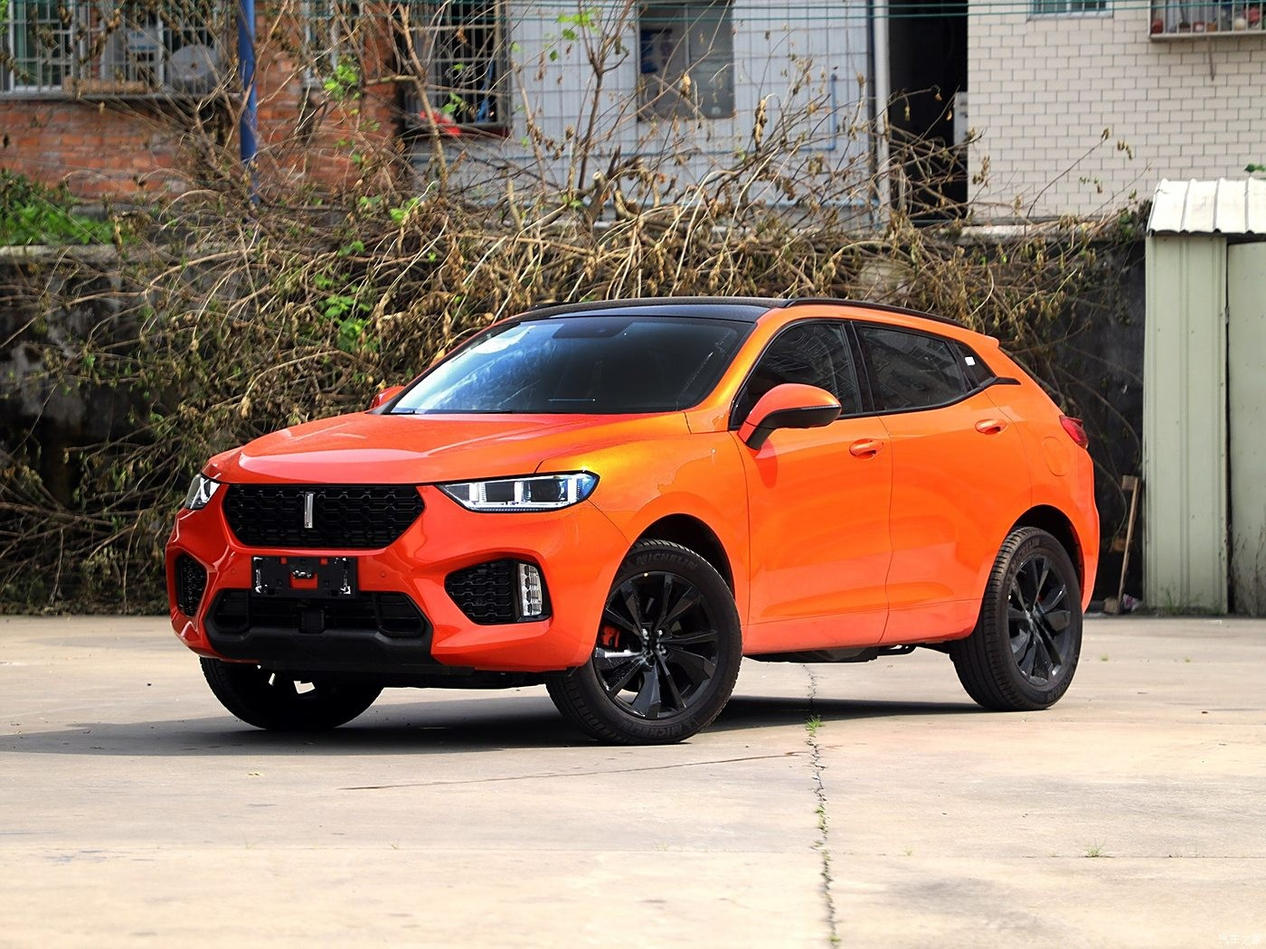WEY: (305, 493, 312, 527)
